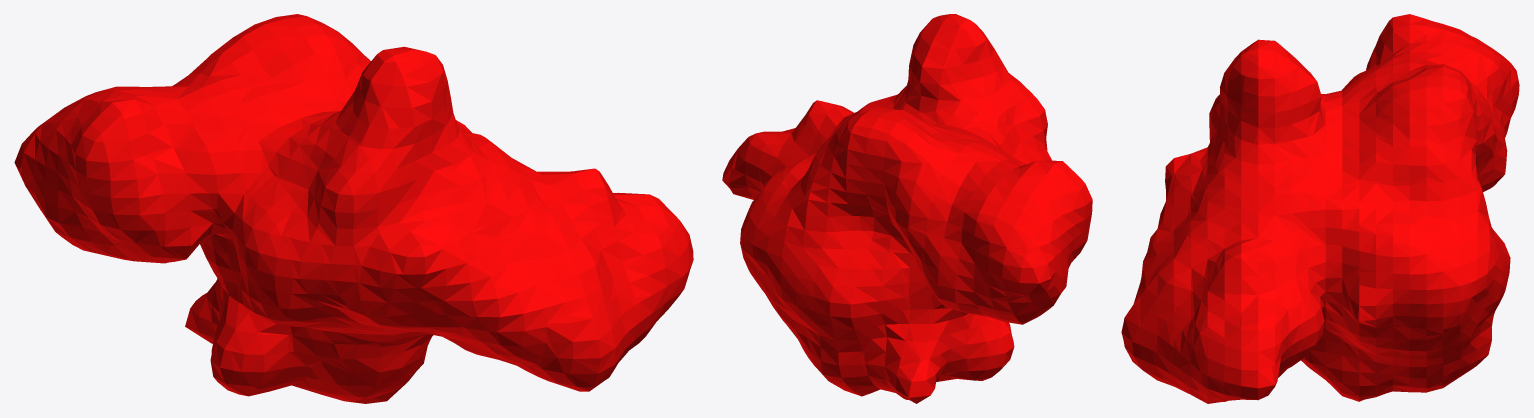
The model's file is ftsA_coarse.dae.
The picture shows the model from 3 angles, left to right: view 1: azimuth 30°, elevation 25°; view 2: azimuth 150°, elevation 25°; view 3: azimuth 270°, elevation 25°; orthographic projection. The views are drawn at different scales.
Parts seen in each view (by area): view 1: ftsA; view 2: ftsA; view 3: ftsA.
Boxes of the visible parts, bbox=[...] form: ftsA: bbox=[14, 14, 693, 403]; ftsA: bbox=[722, 14, 1092, 403]; ftsA: bbox=[1121, 14, 1519, 403].
Size of the model in its own units: 81.87 by 58.51 by 61.26.
